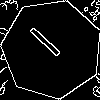I: (26, 24, 70, 66)
